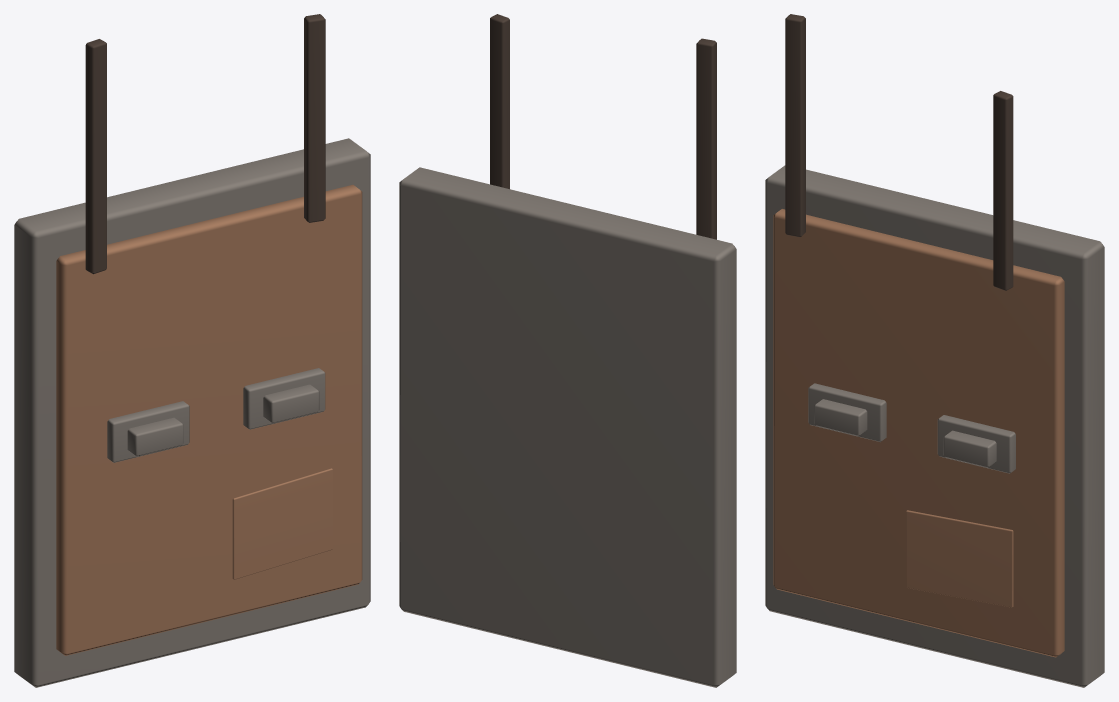
Rendered from prop_electric_panel_old_01.glb.
3 views of the same model, side by side, from view 1: azimuth 30°, elevation 25°; view 2: azimuth 150°, elevation 25°; view 3: azimuth 330°, elevation 25° (orthographic). The views are drawn at different scales.
Parts seen in each view (by area): view 1: panel_door_rusty.001, panel_box.001, rust_stain_panel.001, fake_cable_01.001, fake_cable_02.001, fuse_slot_02.001, fuse_slot_01.001, fuse_visual_01.001, fuse_visual_02.001; view 2: panel_box.001, fake_cable_01.001, fake_cable_02.001; view 3: panel_door_rusty.001, panel_box.001, rust_stain_panel.001, fake_cable_01.001, fake_cable_02.001, fuse_slot_02.001, fuse_slot_01.001, fuse_visual_02.001, fuse_visual_01.001.
Boxes of the visible parts, x1,y1,x2,y2 form: panel_door_rusty.001: (56,184,362,655); panel_box.001: (14,138,370,687); rust_stain_panel.001: (232,468,332,579); fake_cable_01.001: (85,39,106,274); fake_cable_02.001: (304,14,325,222); fuse_slot_02.001: (243,368,325,429); fuse_slot_01.001: (107,401,189,462); fuse_visual_01.001: (127,417,183,456); fuse_visual_02.001: (263,384,319,423); panel_box.001: (399,167,736,687); fake_cable_01.001: (696,38,716,239); fake_cable_02.001: (490,14,509,189); panel_door_rusty.001: (773,209,1064,657); panel_box.001: (765,165,1104,687); rust_stain_panel.001: (906,510,1013,607); fake_cable_01.001: (785,14,805,237); fake_cable_02.001: (993,91,1013,290); fuse_slot_02.001: (937,415,1015,473); fuse_slot_01.001: (808,383,886,441); fuse_visual_02.001: (943,430,996,467); fuse_visual_01.001: (814,399,867,435).
Bounding box in the file's own units: 0.7 × 1.27 × 0.1693.
